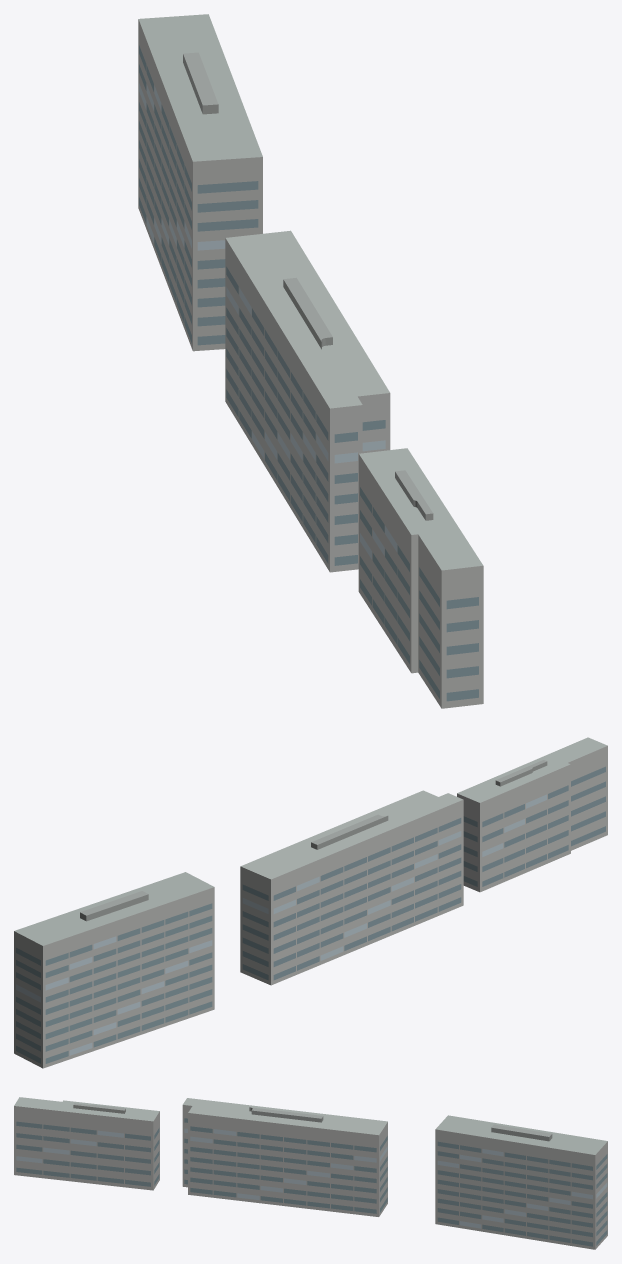
The model's file is apt-a13201001.glb.
The picture shows the model from 3 angles, top to bottom: view 1: azimuth 30°, elevation 25°; view 2: azimuth 150°, elevation 25°; view 3: azimuth 270°, elevation 25°; orthographic projection. The views are drawn at different scales.
Parts seen in each view (by area): view 1: apt-a13201001; view 2: apt-a13201001; view 3: apt-a13201001.
Boxes of the visible parts, x1,y1,x2,y2 form: apt-a13201001: (138,14,483,708); apt-a13201001: (14,737,607,1068); apt-a13201001: (14,1097,607,1249).
Bounding box in the file's own units: 66.89 × 37 × 201.
